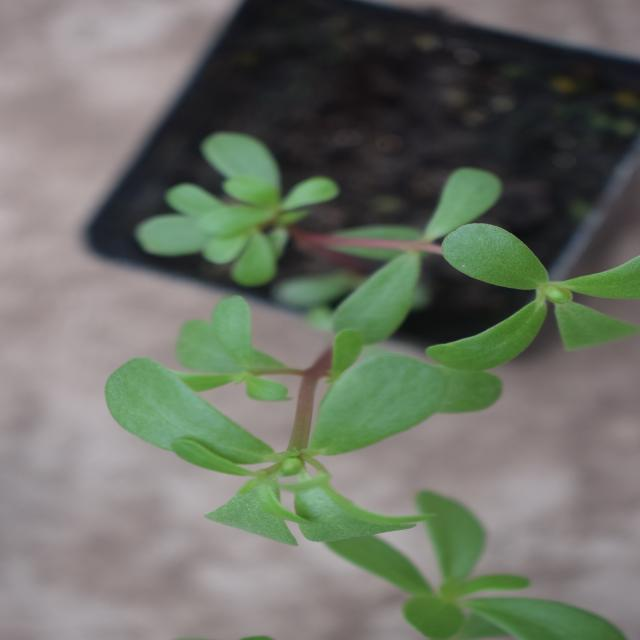purslane: (12, 105, 485, 614)
